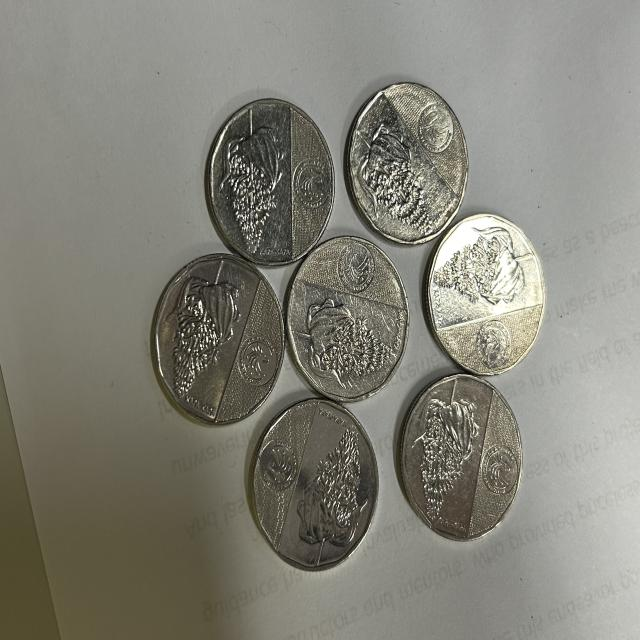10_New_Back: (291, 282, 383, 390), (426, 219, 527, 309), (305, 415, 370, 553), (351, 112, 428, 228), (220, 112, 277, 249), (176, 263, 227, 415), (420, 374, 468, 524)
